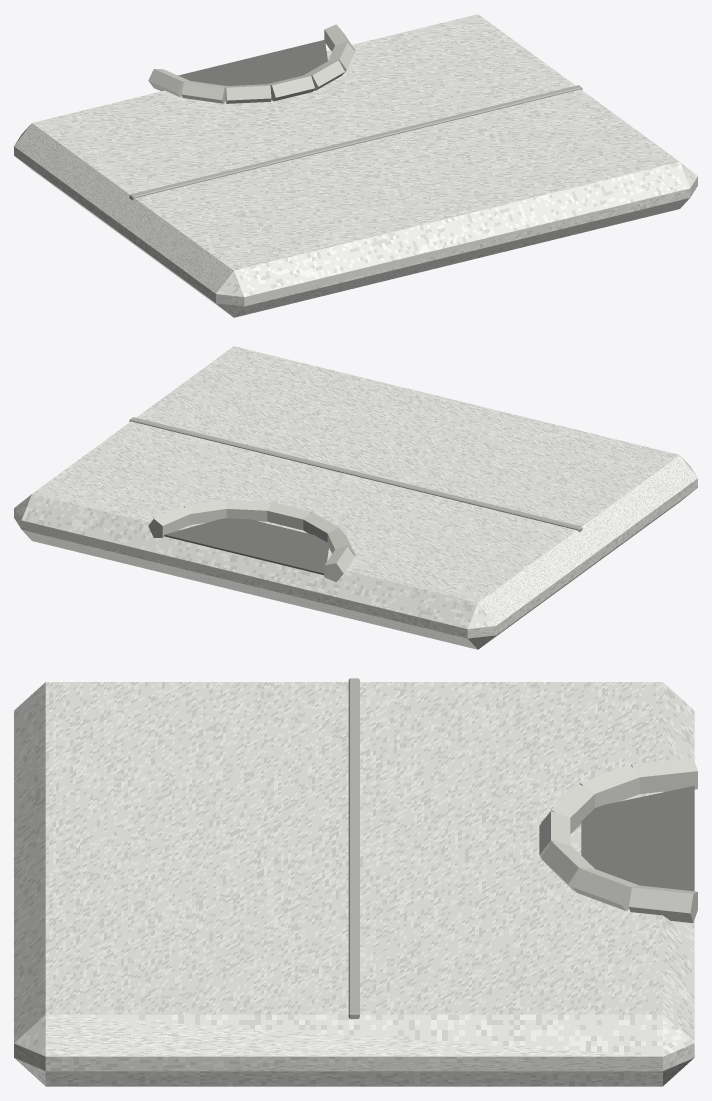
Rendered from tshirt.glb.
3 renders of one model, top to bottom at view 1: azimuth 30°, elevation 25°; view 2: azimuth 150°, elevation 25°; view 3: azimuth 270°, elevation 25°, orthographic. The views are drawn at different scales.
Parts seen in each view (by area): view 1: block_body, block_neckhole, block_fold, block_neck4, block_neck3, block_neck5, block_neck6, block_neck2; view 2: block_body, block_neckhole, block_fold, block_neck2, block_neck0, block_neck3, block_neck1, block_neck6, block_neck4; view 3: block_body, block_neckhole, block_fold, block_neck0, block_neck6, block_neck1, block_neck5, block_neck2, block_neck4, block_neck3.
Boxes of the visible parts, x1,y1,x2,y2 form: block_body: (14,14,697,317); block_neckhole: (178,39,327,85); block_fold: (129,85,582,200); block_neck4: (225,84,271,103); block_neck3: (267,75,314,101); block_neck5: (181,81,226,103); block_neck6: (148,69,189,96); block_neck2: (304,60,344,90); block_body: (14,346,697,649); block_neckhole: (164,518,328,575); block_fold: (129,417,582,532); block_neck2: (226,500,270,521); block_neck0: (148,506,189,537); block_neck3: (267,502,311,530); block_neck1: (183,500,226,524); block_neck6: (324,546,354,582); block_neck4: (303,512,338,542); block_body: (14,682,694,1086); block_neckhole: (581,785,694,891); block_fold: (348,678,359,1018); block_neck0: (629,885,697,922); block_neck6: (631,758,697,793); block_neck1: (572,868,639,910); block_neck5: (580,765,639,807); block_neck2: (541,841,594,890); block_neck4: (541,784,594,833); block_neck3: (539,811,570,856).
Size of the model in its own units: 0.3 by 0.0367 by 0.2412.
1 material, 1 textured.
